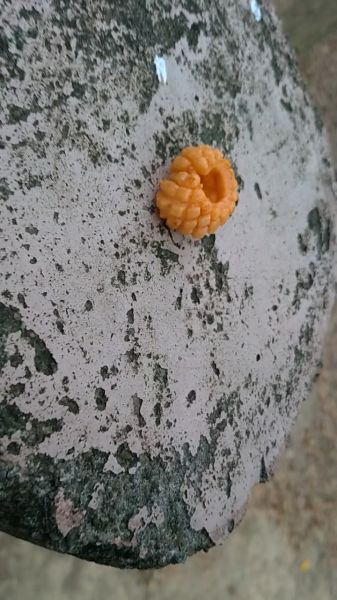eggs: (152, 135, 244, 240)
